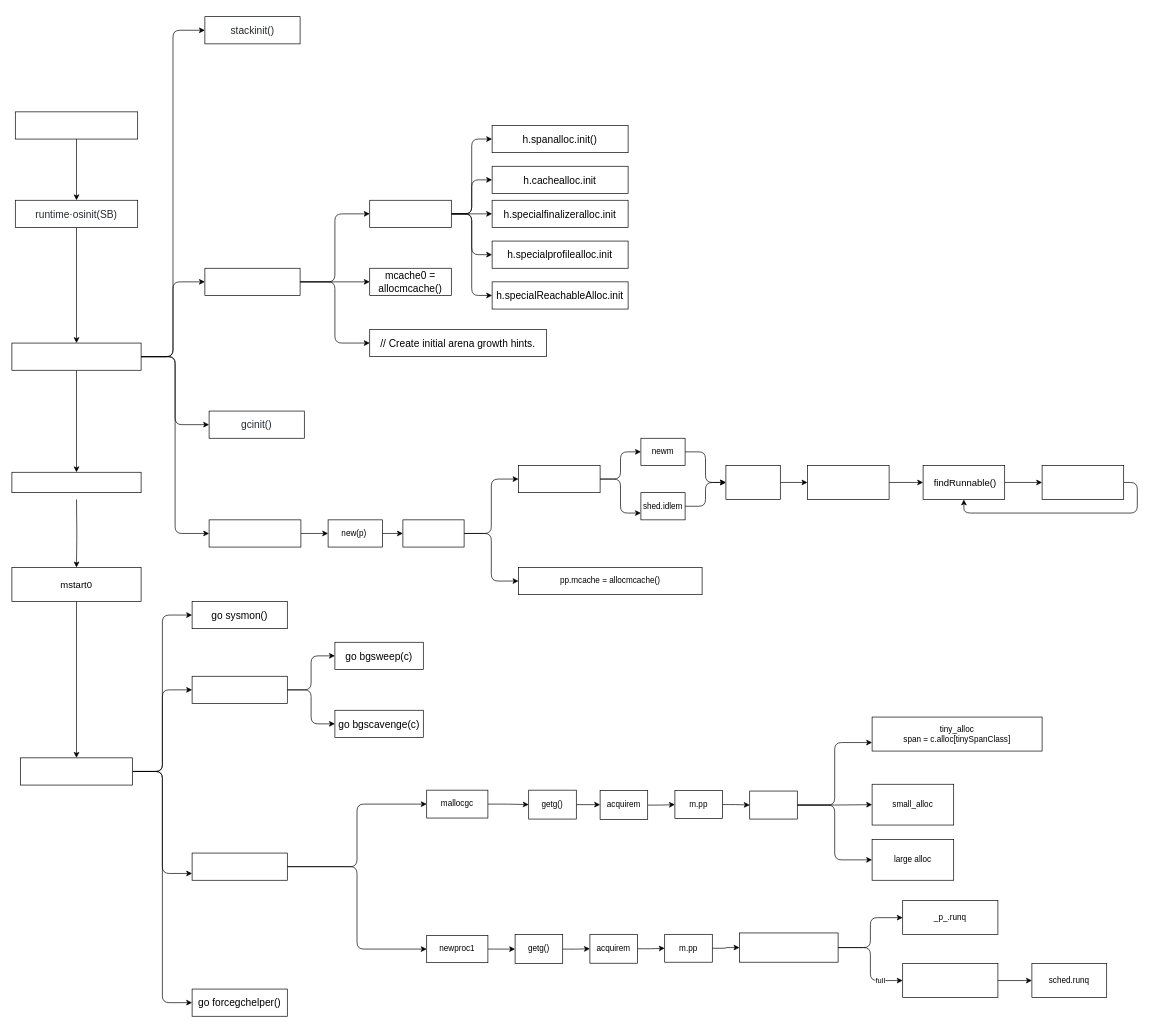
Image size: 1155x1028. Some labels were removed from this diagram. The shapes that lost their labels are listed below. From the top down, each one's centre as x and y in pixels, then its label:
the point at 76,125: runtime· args ( SB )
the point at 410,213: mheap_.init()
the point at 252,281: mallocinit()
the point at 76,356: runtime· schedinit ( SB )
the point at 76,482: runtime·newproc(SB)
the point at 559,479: p.m.set(mget())
the point at 752,482: mstart
the point at 848,482: schedule
the point at 1082,482: execute
the point at 254,533: procresize
the point at 433,533: pp.init
the point at 239,689: gcenable()
the point at 76,771: runtime.main()
the point at 773,804: p.mcache
the point at 239,866: main.main
the point at 788,947: runqput(_p_, newg, true)
the point at 950,980: globrunqputbatch
